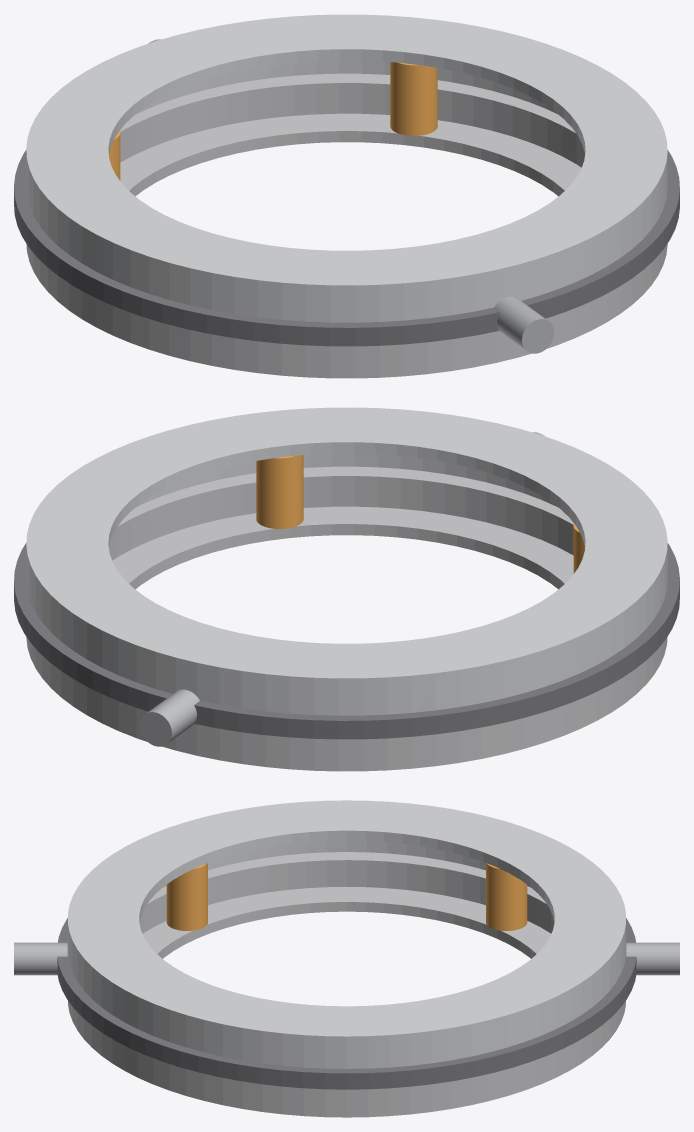
The model's file is stage14_clamp_band_separator_xs.glb.
3 views of the same model, one above another, from view 1: azimuth 30°, elevation 25°; view 2: azimuth 150°, elevation 25°; view 3: azimuth 270°, elevation 25° (orthographic). The views are drawn at different scales.
Parts seen in each view (by area): view 1: half_b_ring, lower_ring, clamp_band, springs, band_bolts; view 2: half_b_ring, lower_ring, clamp_band, springs, band_bolts; view 3: half_b_ring, lower_ring, clamp_band, springs, band_bolts.
Part boxes in pixels (x1,y1,x2,y2): half_b_ring: (26, 14, 667, 322); lower_ring: (26, 73, 667, 378); clamp_band: (14, 150, 679, 346); springs: (109, 62, 437, 180); band_bolts: (148, 39, 554, 353); half_b_ring: (26, 407, 667, 715); lower_ring: (26, 466, 667, 771); clamp_band: (14, 543, 679, 739); springs: (256, 455, 584, 573); band_bolts: (139, 432, 545, 746); half_b_ring: (68, 800, 625, 1068); lower_ring: (68, 852, 625, 1117); clamp_band: (57, 918, 636, 1089); springs: (166, 863, 527, 930); band_bolts: (14, 942, 679, 975).
Size of the model in its own units: 0.649 by 0.1 by 0.745.
